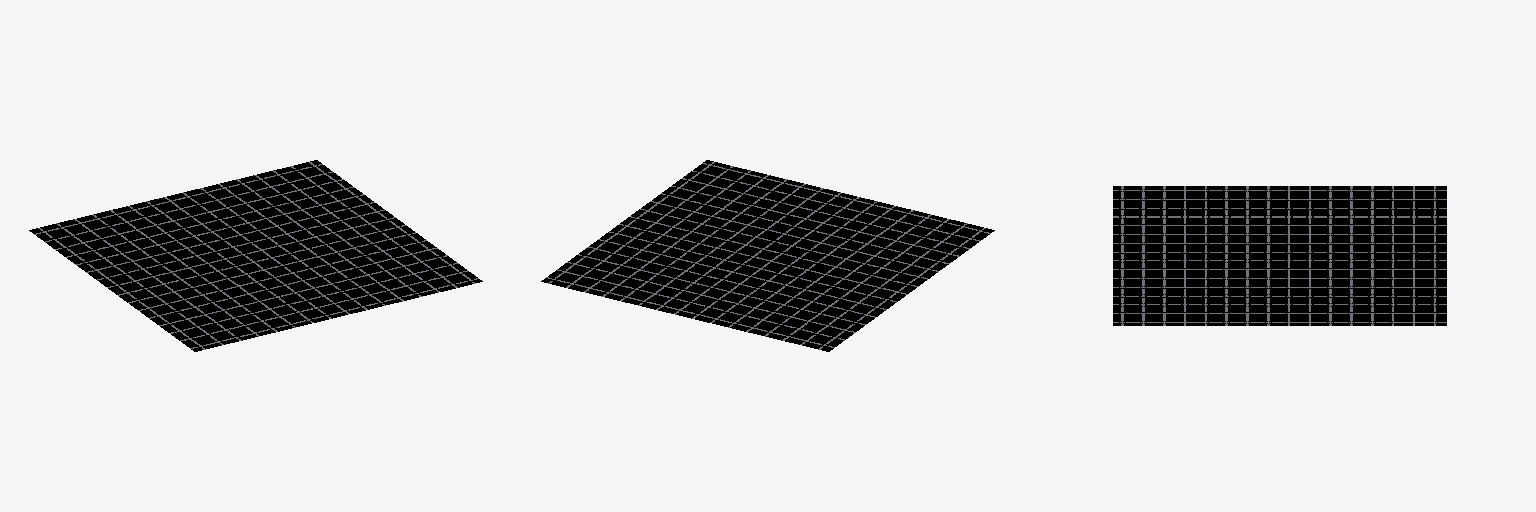
3 views of the same model, side by side, from view 1: azimuth 30°, elevation 25°; view 2: azimuth 150°, elevation 25°; view 3: azimuth 270°, elevation 25° (orthographic).
Parts seen in each view (by area): view 1: 平面; view 2: 平面; view 3: 平面.
Part boxes in pixels (bbox=[...]): 平面: bbox=[29, 160, 482, 351]; 平面: bbox=[541, 160, 994, 351]; 平面: bbox=[1113, 186, 1446, 325].
Bounding box in the file's own units: 2 × 0 × 2.
Materials: 1 (1 with a texture image).